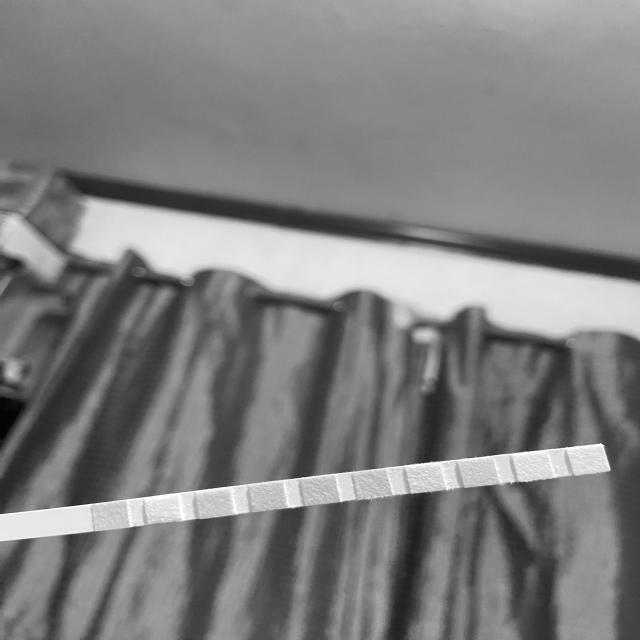Bilirubin: (148, 497, 178, 521)
Blood: (306, 477, 336, 502)
Glucose: (94, 504, 127, 528)
Ketone: (200, 490, 231, 515)
Leukocytes: (575, 446, 604, 473)
Nitrite: (518, 453, 548, 479)
Protein: (411, 464, 441, 490)
SpGravity: (253, 484, 284, 509)
Urobilinogen: (464, 459, 494, 485)
background: (0, 0, 640, 640)
pH: (358, 471, 388, 496)
strip: (0, 443, 612, 542)
